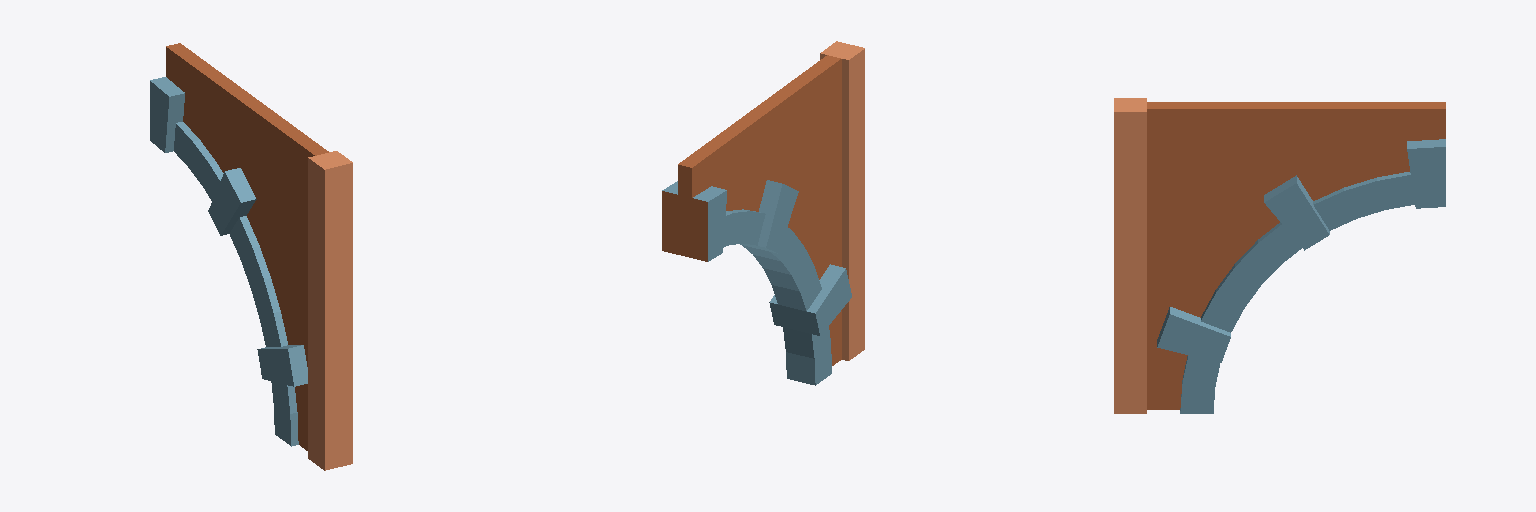
File: wallWoodArchTopDetail.obj
3 views of the same model, side by side, from view 1: azimuth 30°, elevation 25°; view 2: azimuth 150°, elevation 25°; view 3: azimuth 270°, elevation 25° (orthographic).
Visible parts, largest first — view 1: wallWoodArchTopDetail; view 2: wallWoodArchTopDetail; view 3: wallWoodArchTopDetail.
Part boxes in pixels (left/top/right/bottom): wallWoodArchTopDetail: left=150, top=43, right=352, bottom=470; wallWoodArchTopDetail: left=662, top=41, right=864, bottom=385; wallWoodArchTopDetail: left=1114, top=98, right=1445, bottom=413.
Size of the model in its own units: 0.16 by 1 by 1.